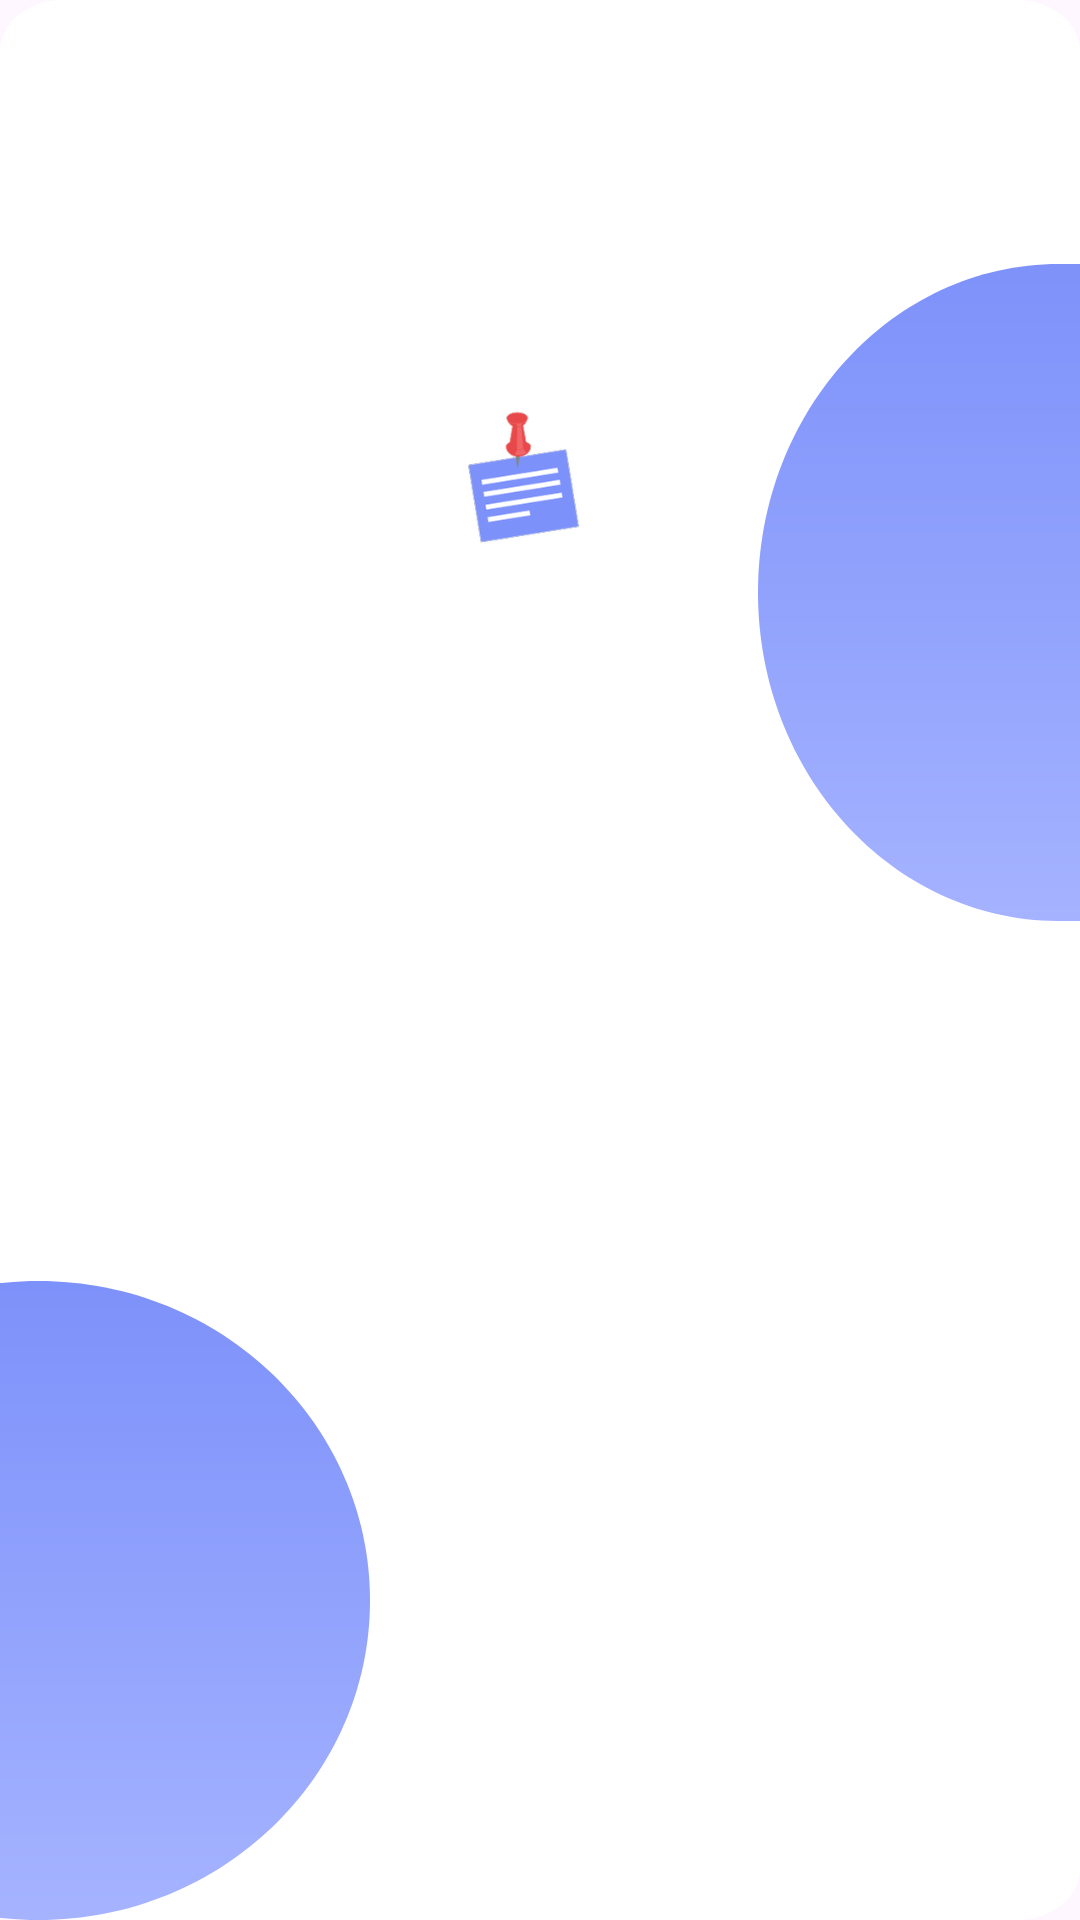

Named icons in this screenshot (1080×1920) and their bounding boxes, (x1, y1, x2, y2):
note: (468, 412, 579, 543)
